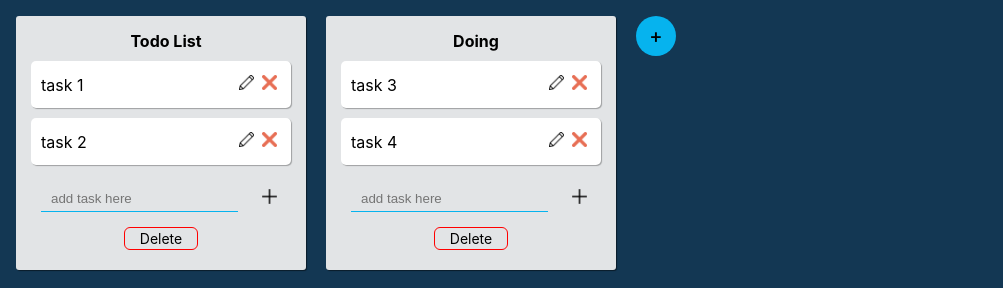
Test: testing <TrelloBoard /> component › after showing input, input value should change and add button should add cardList to cardListData
The width and height of the screenshot is (1003, 288).
Click the button with test id "addcardlist-button": (656, 36) [636,16,676,56]
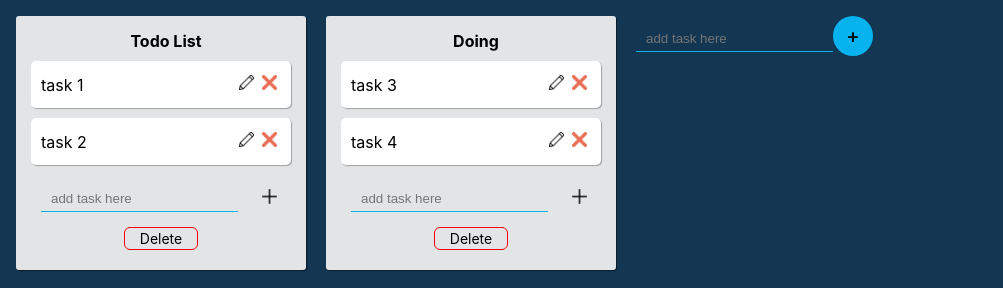
Now the field with test id "task-entry" is shown
In the field with test id "task-entry": (734, 39) [636,26,833,52], type "newone"
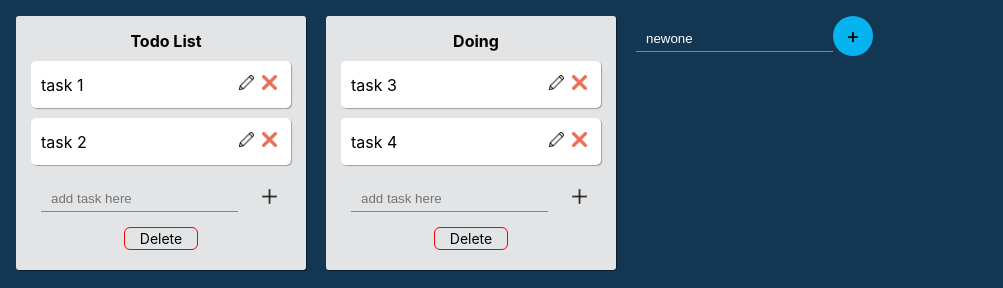
Click the button with test id "addlist-button": (853, 36) [833,16,873,56]
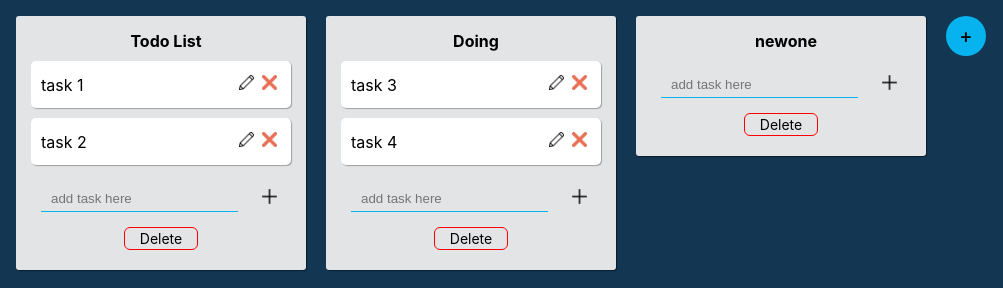
Now the element with test id "newone" is shown, box [636,16,926,156]
